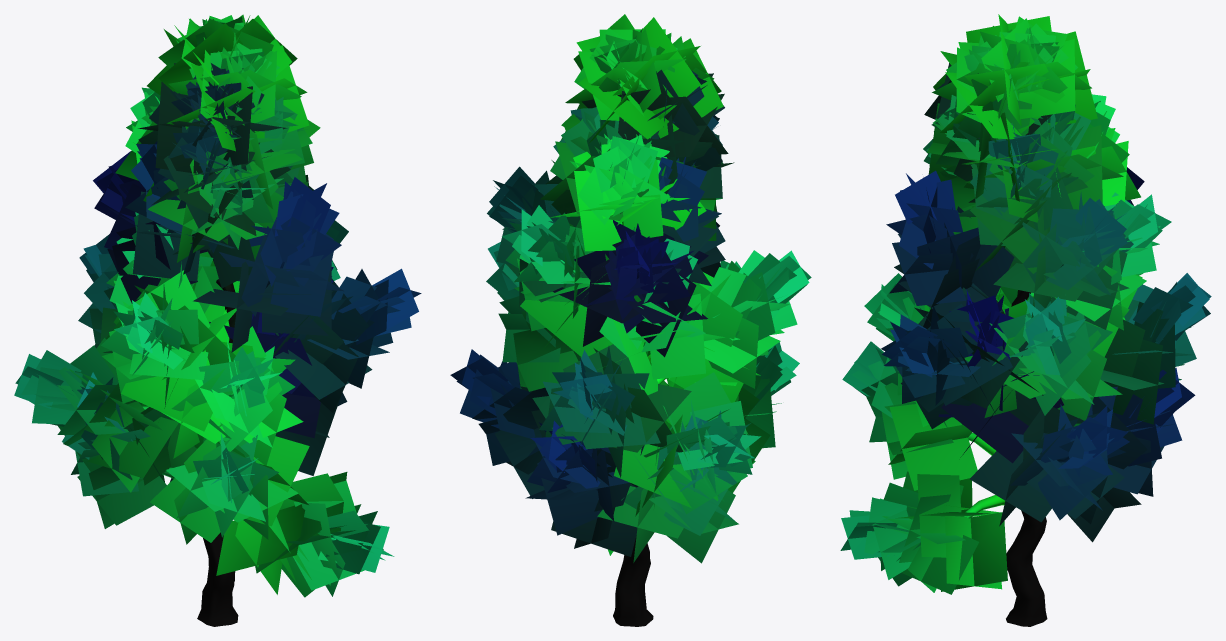
File: tree 2 lod0.FBX
3 renders of one model, left to right at view 1: azimuth 30°, elevation 25°; view 2: azimuth 150°, elevation 25°; view 3: azimuth 270°, elevation 25°, orthographic. The views are drawn at different scales.
Visible parts, largest first — view 1: Tree lod0; view 2: Tree lod0; view 3: Tree lod0.
Part boxes in pixels (left/top/right/bottom): Tree lod0: left=14, top=14, right=421, bottom=626; Tree lod0: left=450, top=14, right=811, bottom=626; Tree lod0: left=840, top=14, right=1211, bottom=626.
Size of the model in its own units: 3.09 by 5.75 by 3.22.
